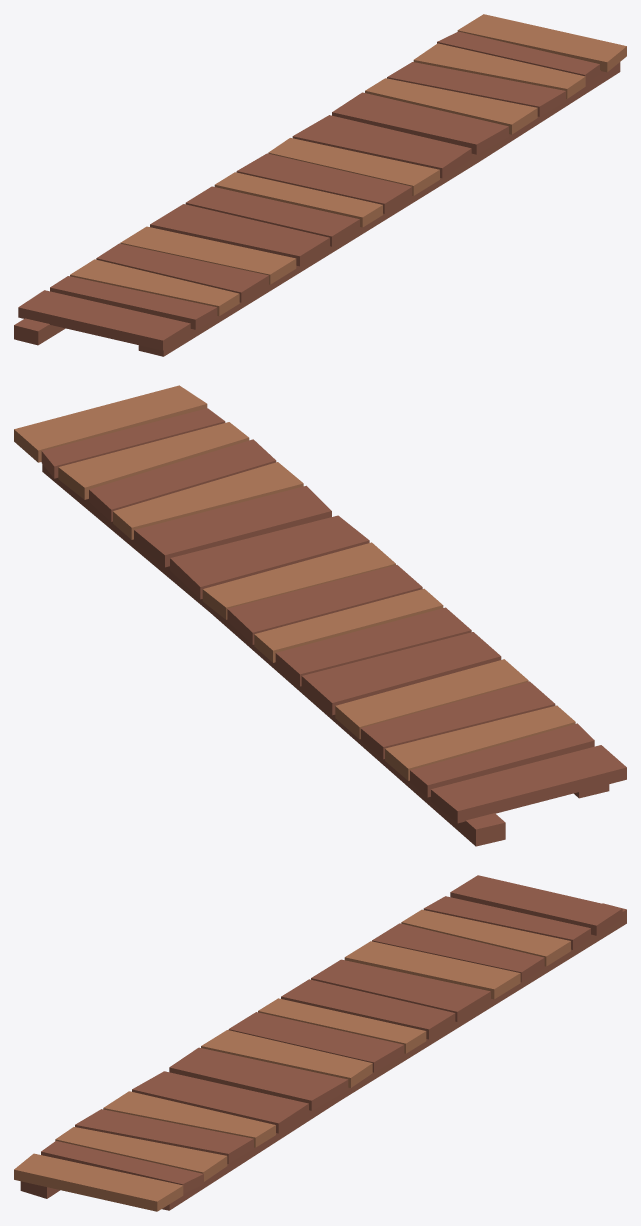
Rendered from bridge_wood_diagonal_3x3.fbx.
3 renders of one model, top to bottom at view 1: azimuth 90°, elevation 25°; view 2: azimuth 150°, elevation 25°; view 3: azimuth 270°, elevation 25°, orthographic. The views are drawn at different scales.
Parts seen in each view (by area): view 1: bridge_wood_diagonal_3x3; view 2: bridge_wood_diagonal_3x3; view 3: bridge_wood_diagonal_3x3.
Part boxes in pixels (x1=…): bridge_wood_diagonal_3x3: x1=14, y1=14, x2=626, y2=356; bridge_wood_diagonal_3x3: x1=14, y1=385, x2=626, y2=846; bridge_wood_diagonal_3x3: x1=14, y1=875, x2=626, y2=1211.
Size of the model in its own units: 18.4 by 14.6 by 0.6194.
